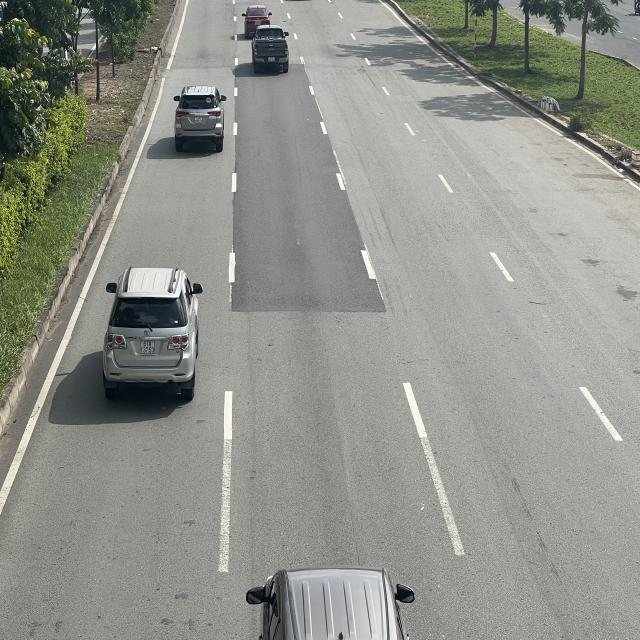car: (103, 264, 203, 398), (251, 563, 419, 638), (174, 85, 228, 151), (252, 24, 292, 71), (242, 6, 272, 36)
